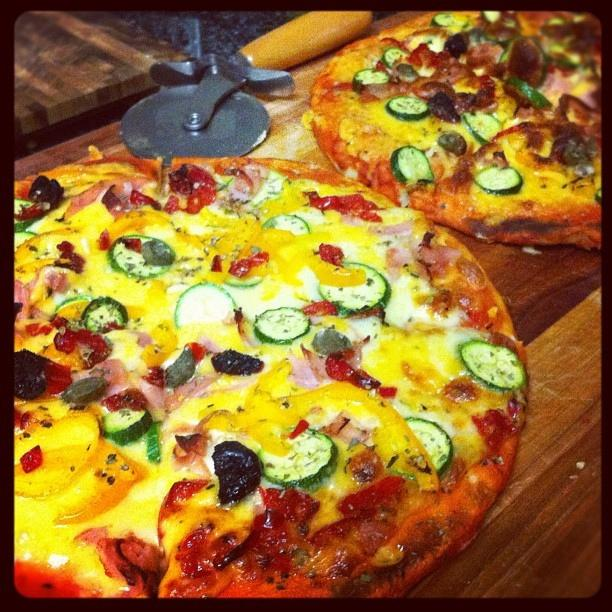bell pepper: (198, 380, 442, 495), (14, 439, 148, 525), (273, 254, 367, 287), (325, 336, 381, 390), (335, 476, 403, 520), (52, 316, 106, 370), (106, 210, 170, 245), (76, 156, 161, 182), (14, 227, 82, 259), (310, 194, 386, 222), (234, 228, 295, 262), (140, 320, 177, 367), (245, 422, 291, 456), (256, 358, 292, 400), (406, 43, 451, 70), (101, 388, 150, 412), (44, 359, 72, 394), (313, 243, 344, 267), (20, 444, 42, 474), (56, 302, 90, 321), (534, 171, 568, 186), (186, 194, 206, 214), (570, 82, 593, 98), (332, 82, 353, 90), (376, 60, 388, 72)
vegetable marrow: (256, 428, 338, 490), (318, 262, 391, 319), (458, 340, 526, 392), (174, 282, 238, 329), (403, 417, 453, 477), (108, 235, 172, 278), (499, 36, 547, 89), (253, 307, 312, 345), (102, 408, 152, 446), (81, 296, 128, 333), (390, 146, 433, 184), (252, 168, 290, 210), (160, 345, 196, 388), (474, 164, 522, 196), (506, 77, 553, 109), (460, 112, 504, 145), (386, 96, 430, 121), (13, 197, 44, 232), (260, 215, 310, 236), (548, 42, 582, 72), (352, 68, 390, 94), (54, 296, 93, 320), (146, 420, 164, 465), (222, 274, 266, 288), (382, 47, 406, 69), (14, 231, 38, 252), (429, 13, 454, 28), (216, 177, 236, 192), (480, 11, 502, 23), (546, 17, 566, 26)
